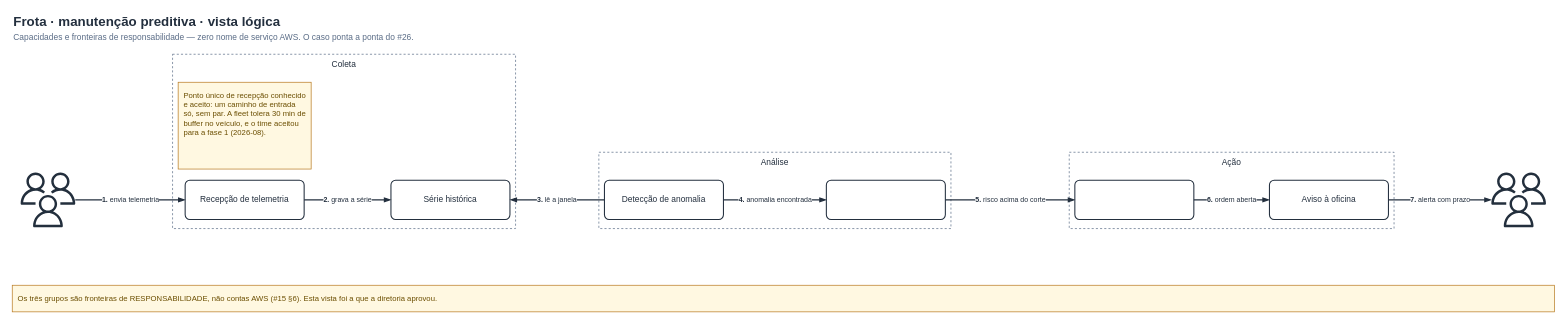
Some shapes in this 1567 by 324 pixel diagram are drawn without their labels. The shapes that lost their labels are listed below. From the top down, each one's centre as x and y in pixels, then its label:
At point 47,199: "Caminhões".
At point 886,199: "Pontuação de risco".
At point 1134,199: "Abertura de ordem".
At point 1518,199: "Oficinas".
